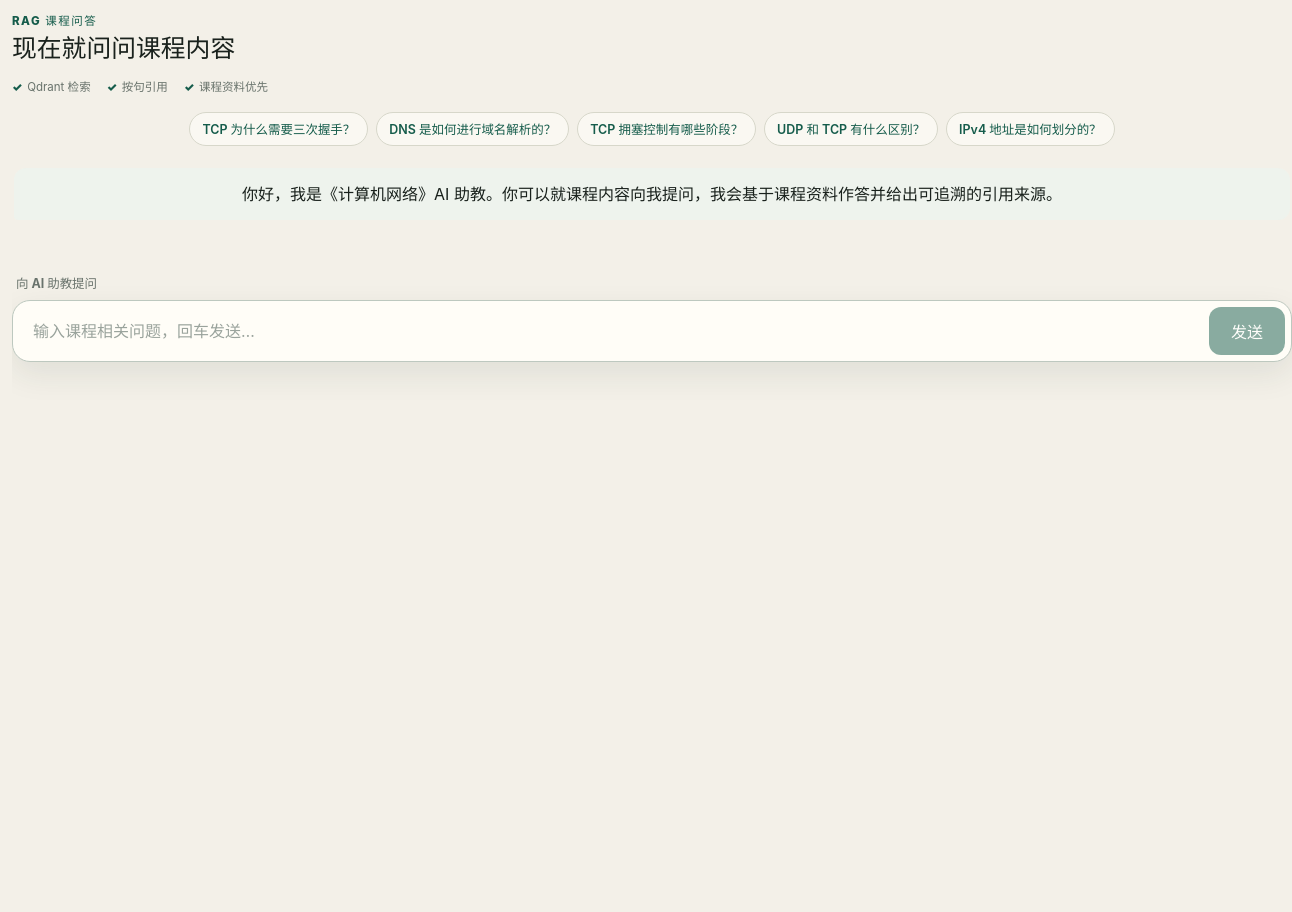
Test: ChatPanel › renders an answer with an inline marker and a traceable citation
Type "TCP 为什么需要三次握手？" into the field labelled "向 AI 助教提问" at {"x": 610, "y": 331}, box x1=19 y1=307 x2=1201 y2=355
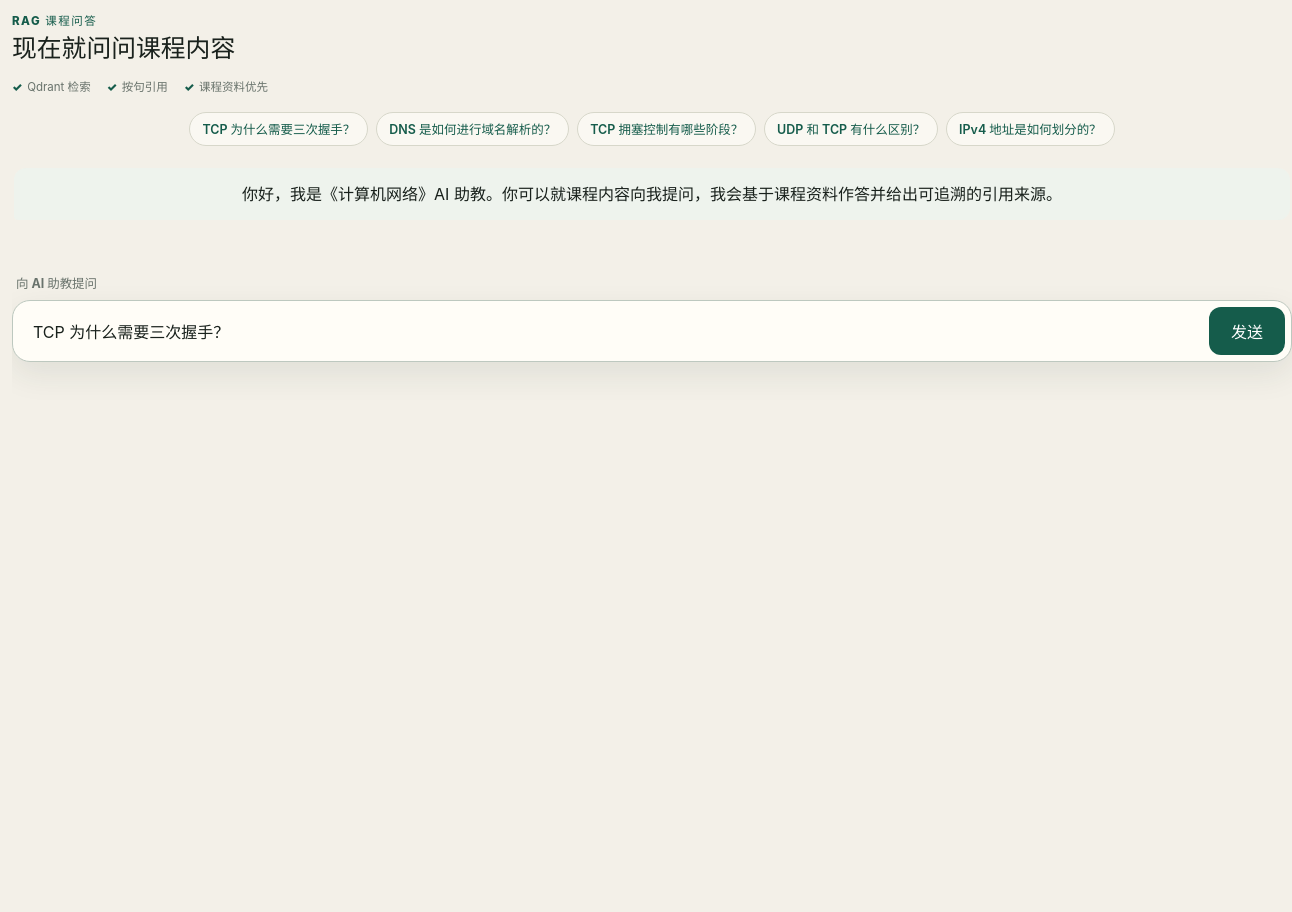
Click the button "发送" at {"x": 1247, "y": 331}, box x1=1209 y1=307 x2=1285 y2=355
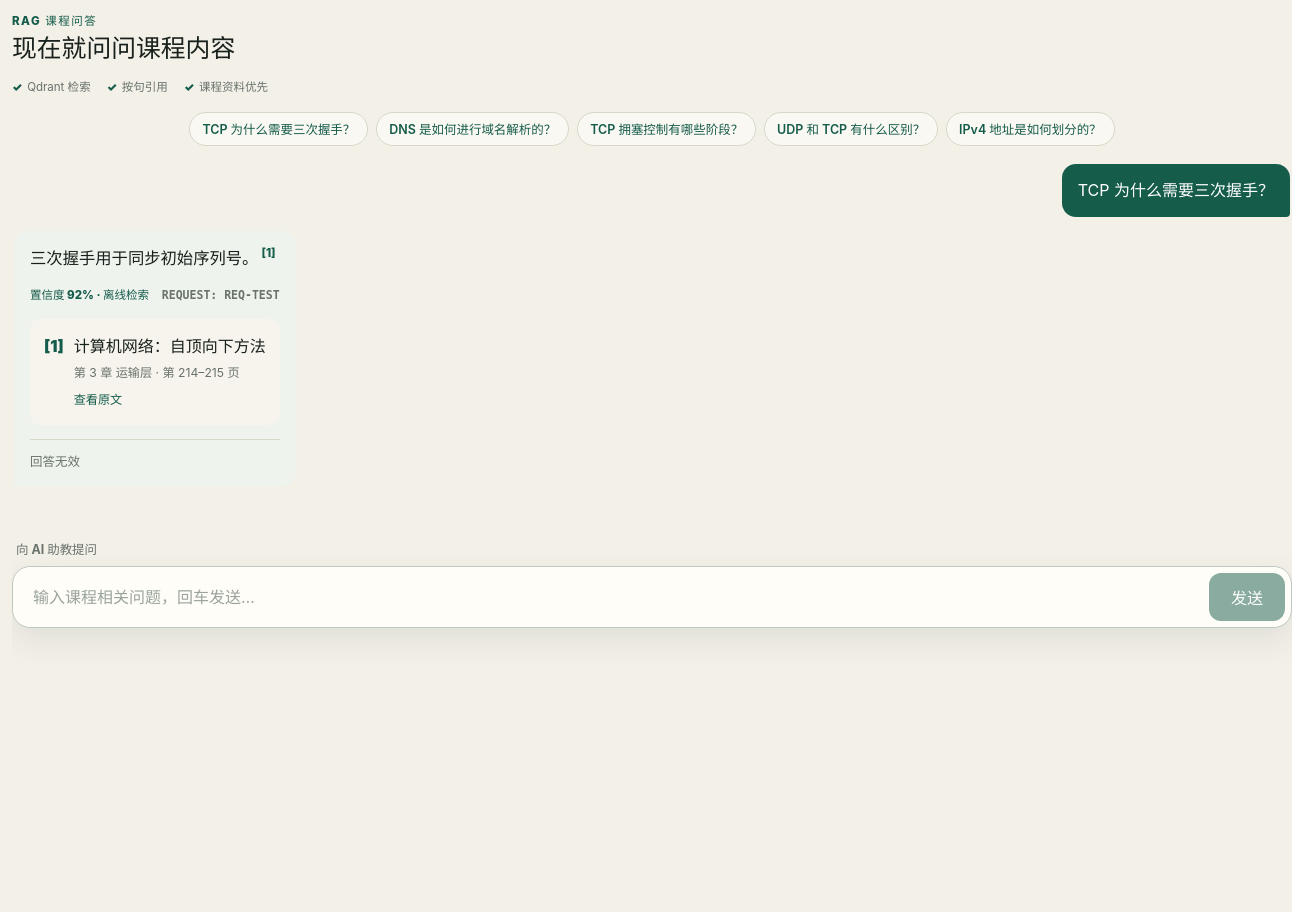
Check: the text "三次握手用于同步初始序列号。" is shown, box x1=30 y1=248 x2=258 y2=268
Check: the text "第 3 章 运输层 · 第 214–215 页" is shown, box x1=74 y1=363 x2=266 y2=383
